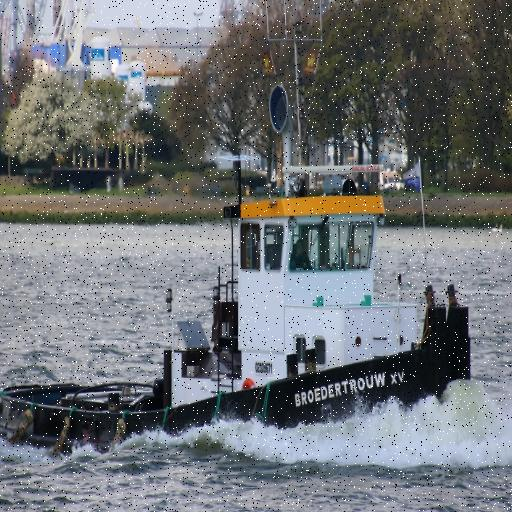tugboat: (1, 1, 476, 486)
